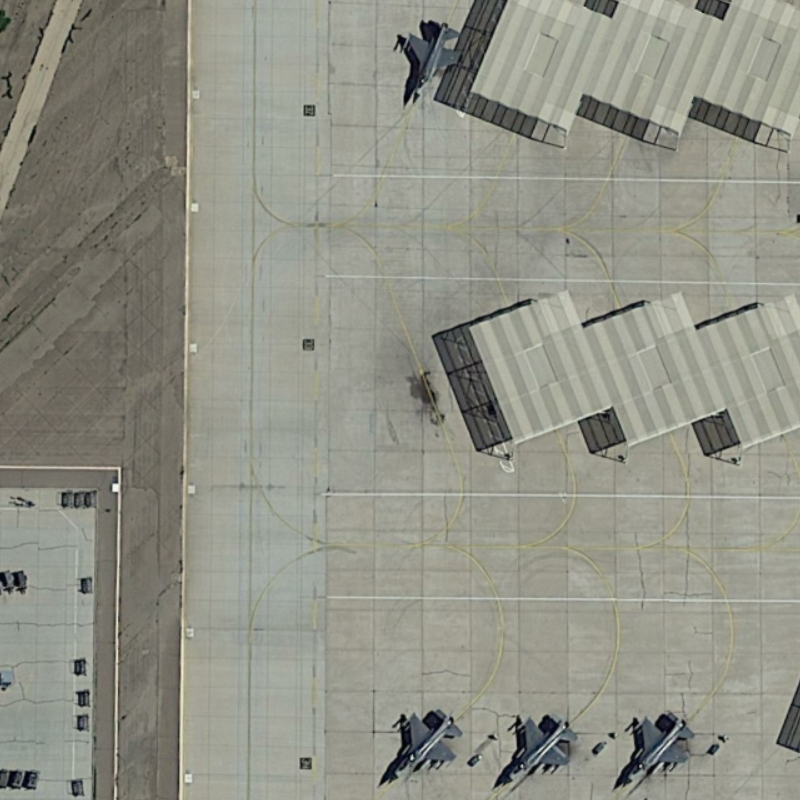A5: (614, 704, 700, 792), (489, 711, 583, 791), (394, 15, 469, 111), (383, 706, 466, 789)
